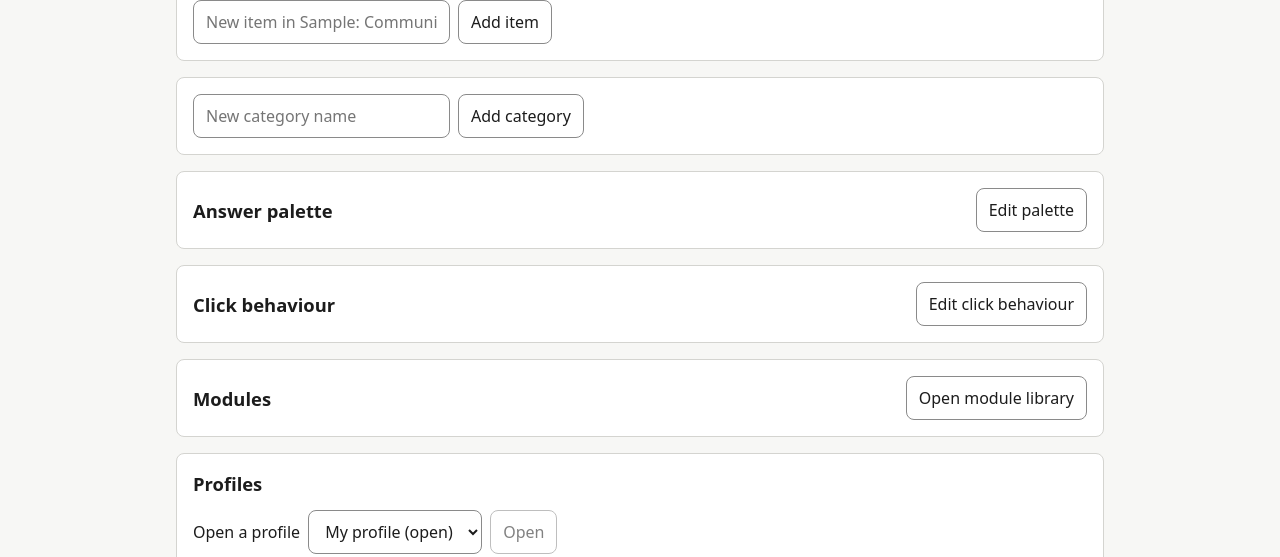
Test case: adding a state › refuses a name that clashes with an existing state, with a readable message
(page scrolled)
Click the button "Edit palette" at (1031,210), box [976,188,1087,232]
(page scrolled)
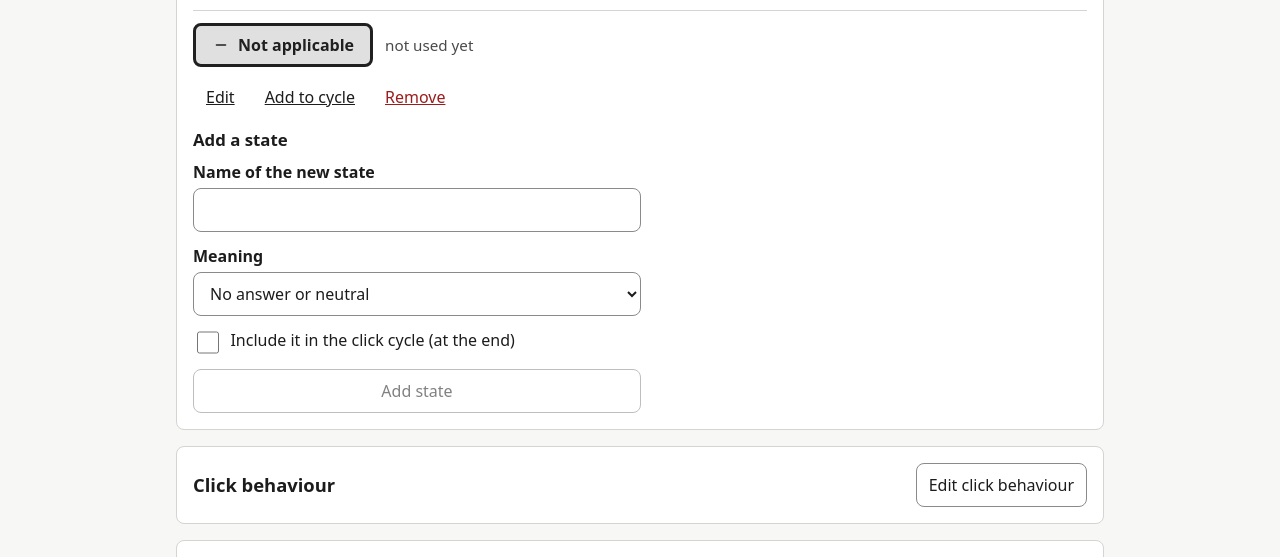
Type "yes" into the field labelled "Name of the new state" at (417,210), box [193,188,641,232]
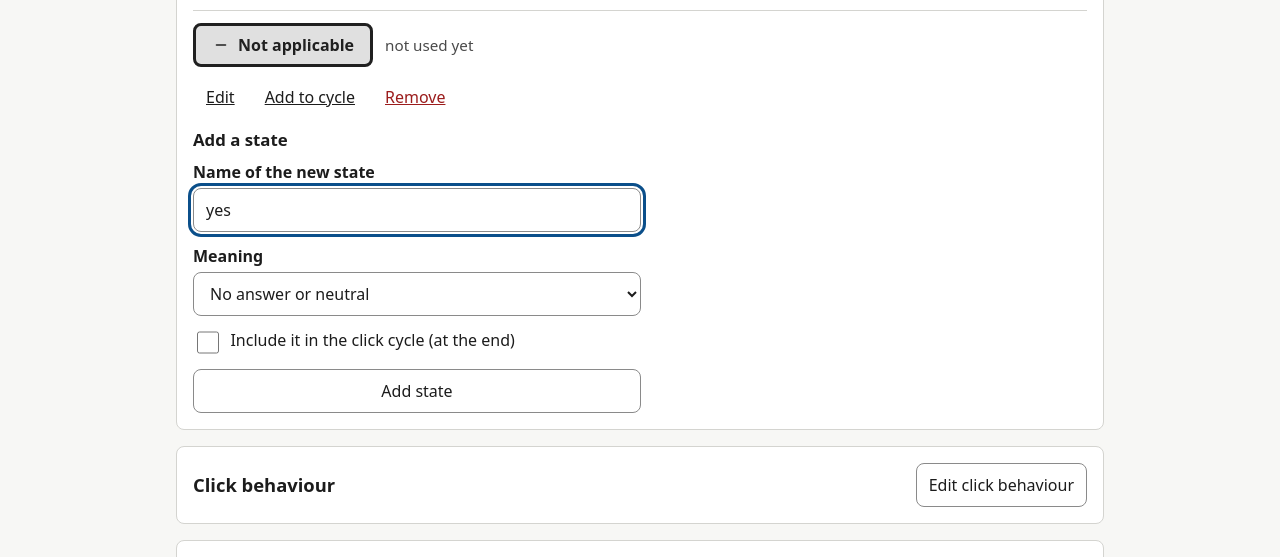
Click the button "Add state" at (417,391), box [193,369,641,413]
(page scrolled)
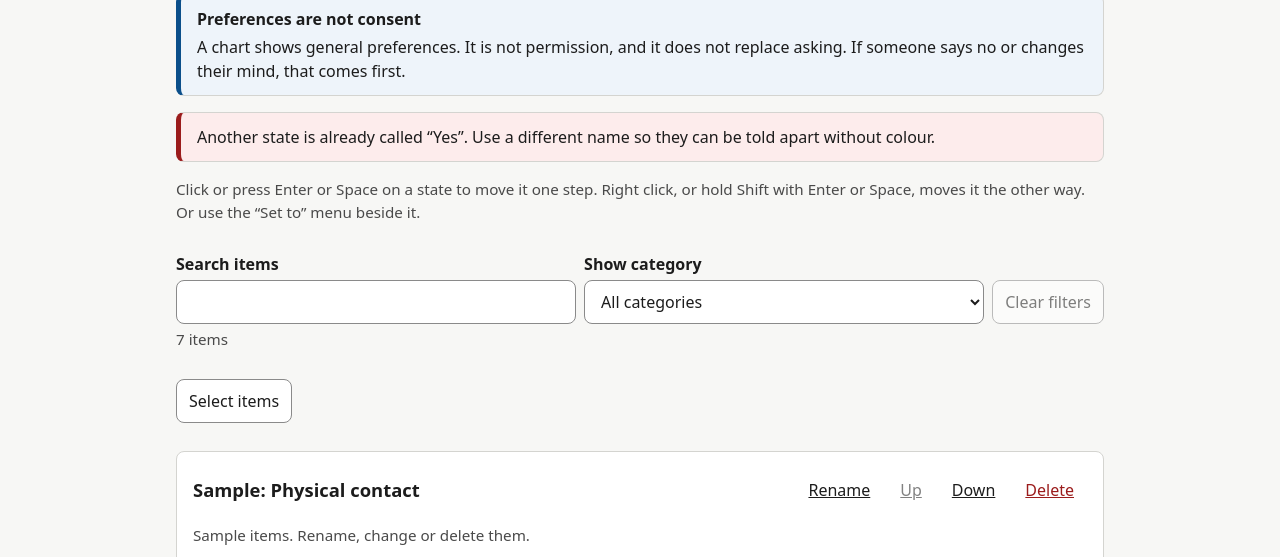
Expected: the 1st message shows "already called “Yes”", [197,126,935,148]
